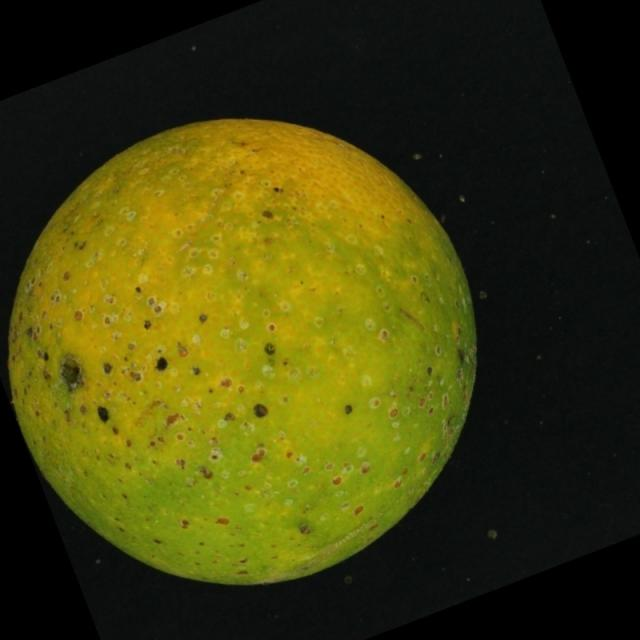grenning: (9, 96, 490, 596)
